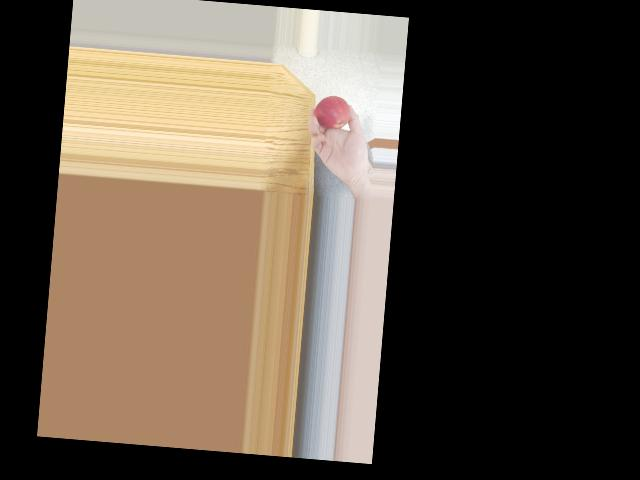apple: (312, 93, 353, 130)
